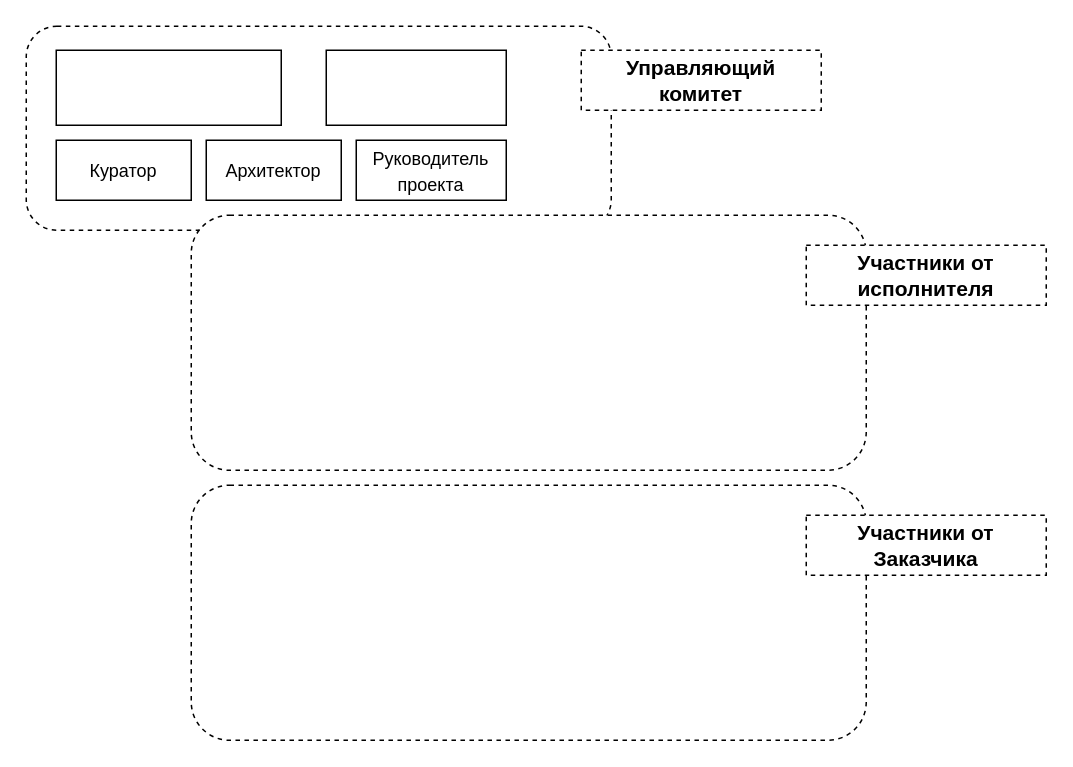
This 1073x767 diagram has some shape labels left out. The box of each missing label's shape, as (x1, y1, x2, y2) in pixels:
Заместитель директора департамента по производству: (55, 49, 281, 125)
Руководитель ПМО: (325, 49, 506, 125)
